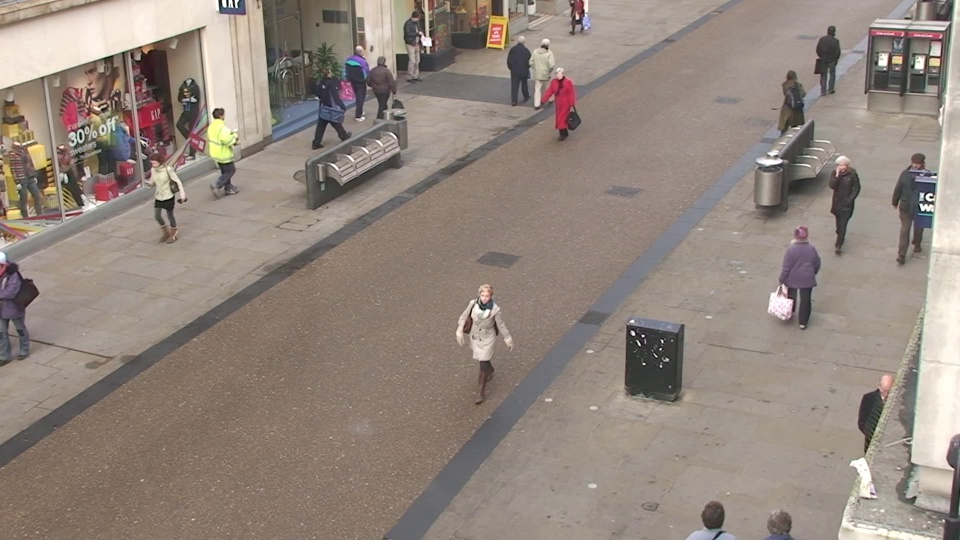pedestrian: (851, 363, 915, 529), (465, 278, 510, 416), (777, 219, 822, 343), (888, 149, 936, 257), (819, 152, 861, 259), (140, 150, 183, 252), (679, 485, 743, 540), (203, 103, 239, 193), (743, 492, 809, 540), (773, 67, 805, 150), (313, 63, 343, 143), (813, 24, 844, 98), (368, 53, 397, 130), (547, 65, 574, 147), (345, 42, 373, 116), (533, 34, 559, 108), (506, 33, 532, 106), (403, 10, 427, 75)
